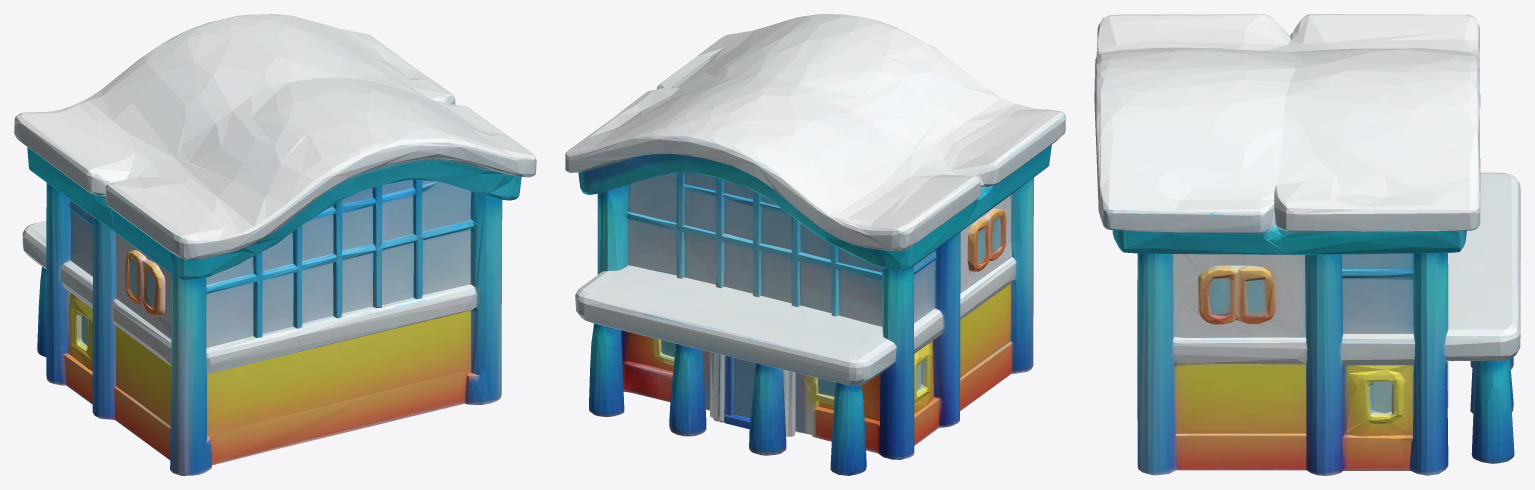
File: b-ferry.glb
The picture shows the model from 3 angles, left to right: view 1: azimuth 30°, elevation 25°; view 2: azimuth 150°, elevation 25°; view 3: azimuth 270°, elevation 25°; orthographic projection. The views are drawn at different scales.
Visible parts, largest first — view 1: geometry_0; view 2: geometry_0; view 3: geometry_0.
Part boxes in pixels (x1,y1,x2,y2): geometry_0: [14, 14, 536, 475]; geometry_0: [565, 14, 1065, 475]; geometry_0: [1094, 14, 1520, 475].
Bounding box in the file's own units: 0.9993 × 0.8249 × 0.9349.
1 material, 1 textured.
